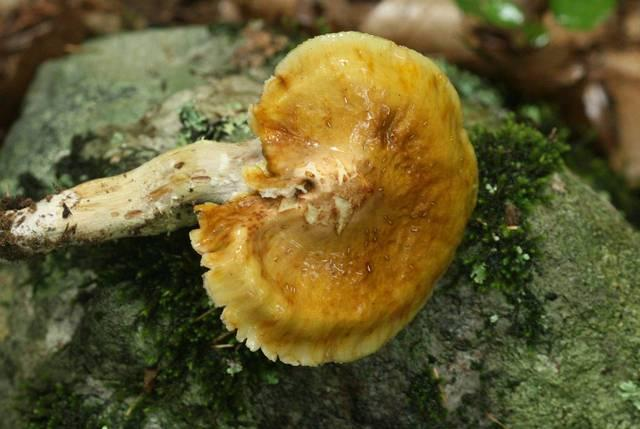Edible Mushroom: (1, 28, 480, 367)
